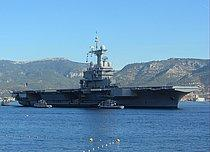MIL_Ship: (12, 31, 198, 108)
